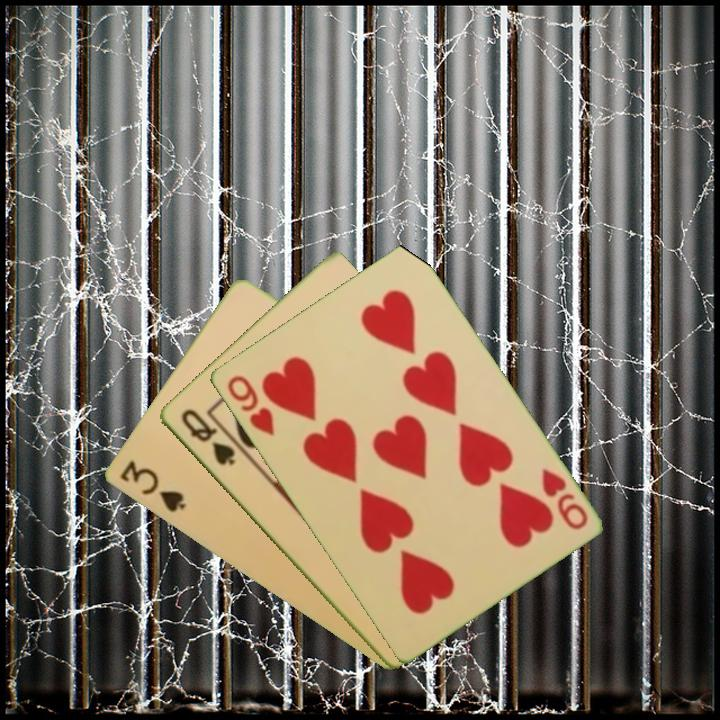3s: (115, 456, 189, 516)
9h: (537, 464, 591, 533), (223, 371, 277, 439)
Qs: (177, 405, 238, 469)
